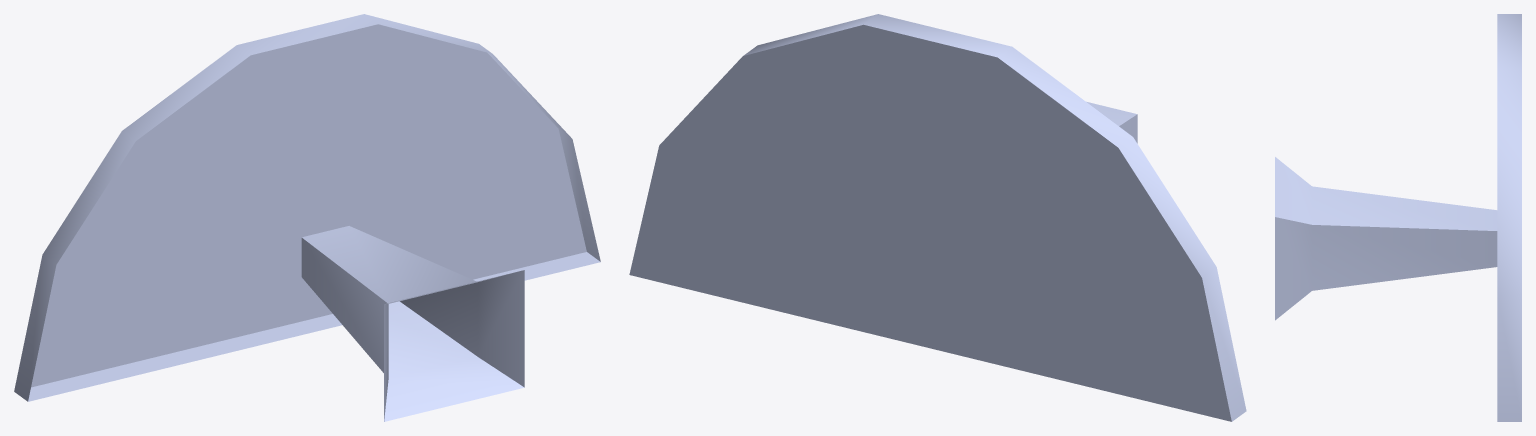
3 views of the same model, side by side, from view 1: azimuth 30°, elevation 25°; view 2: azimuth 150°, elevation 25°; view 3: azimuth 270°, elevation 25° (orthographic). The views are drawn at different scales.
Visible parts, largest first — view 1: Object47; view 2: Object47; view 3: Object47.
Boxes of the visible parts, box(x1,y1,x2,y2) form: Object47: box(14, 14, 600, 421); Object47: box(629, 14, 1246, 421); Object47: box(1275, 14, 1521, 421).
Bounding box in the file's own units: 20369 × 9929 × 8633.
